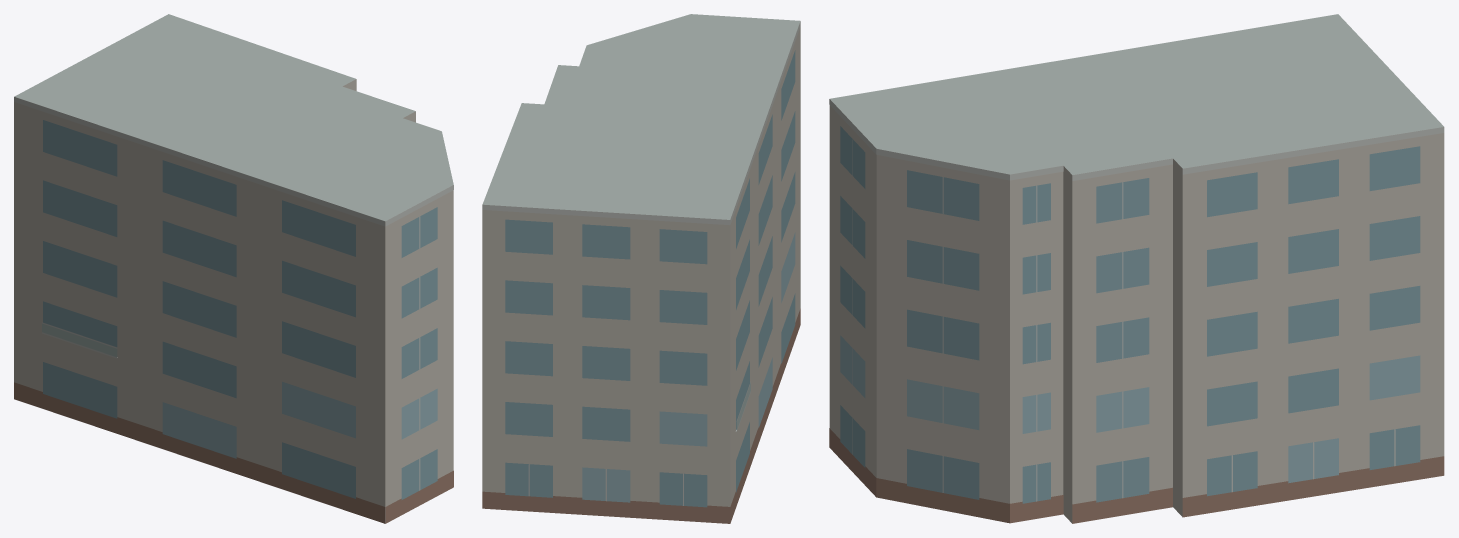
The model's file is survey-upis-32747304.glb.
The picture shows the model from 3 angles, left to right: view 1: azimuth 30°, elevation 25°; view 2: azimuth 150°, elevation 25°; view 3: azimuth 270°, elevation 25°; orthographic projection. The views are drawn at different scales.
Parts seen in each view (by area): view 1: survey-upis-32747304.tmp; view 2: survey-upis-32747304.tmp; view 3: survey-upis-32747304.tmp.
Part boxes in pixels (x1,y1,x2,y2): survey-upis-32747304.tmp: [14, 14, 453, 523]; survey-upis-32747304.tmp: [482, 14, 800, 523]; survey-upis-32747304.tmp: [829, 14, 1444, 523].
Bounding box in the file's own units: 14.09 × 14.2 × 22.7.
